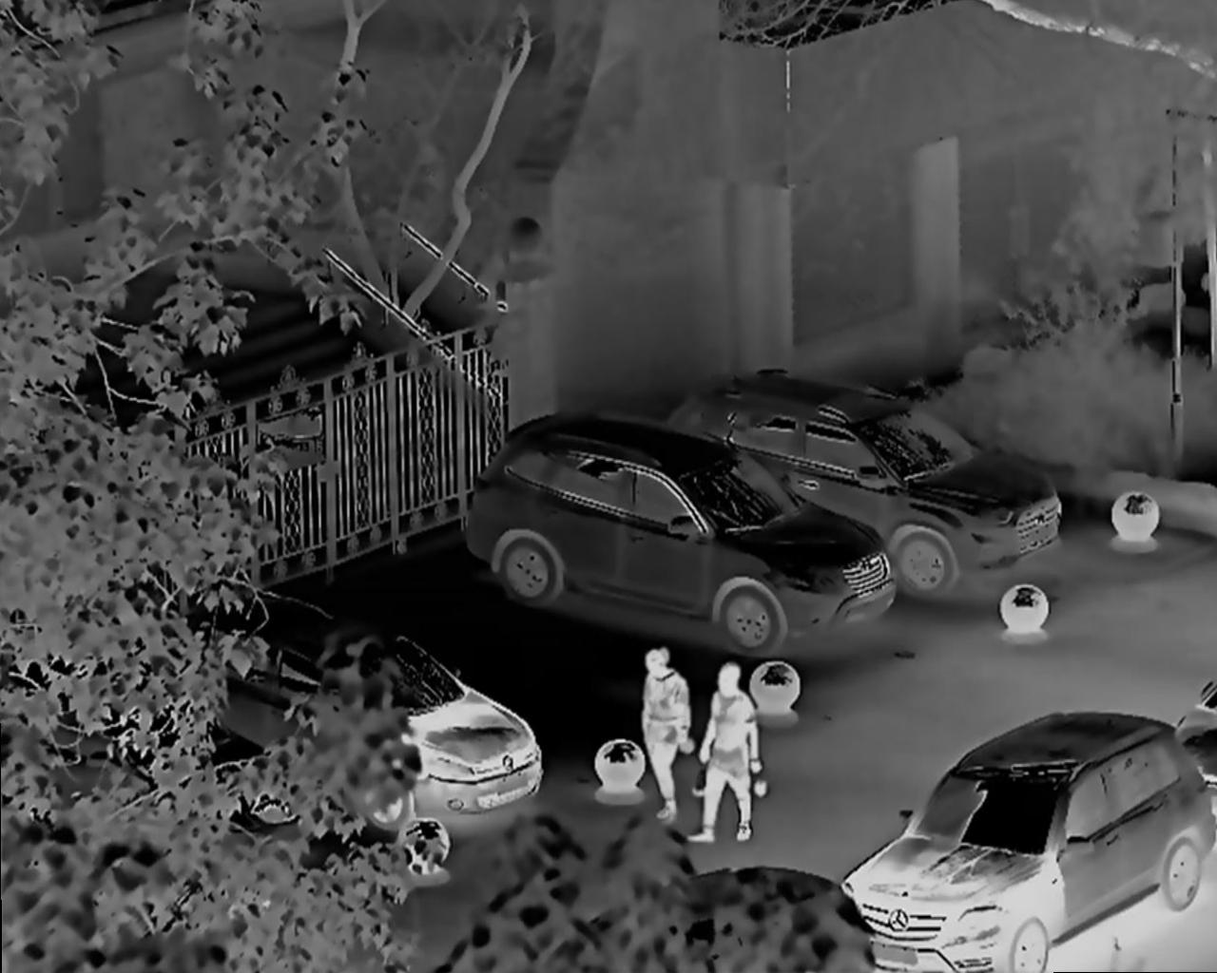person: (687, 663, 766, 847), (630, 641, 705, 815)
